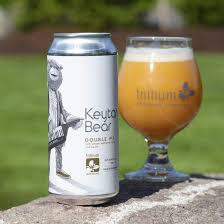beer: (43, 29, 121, 205)
